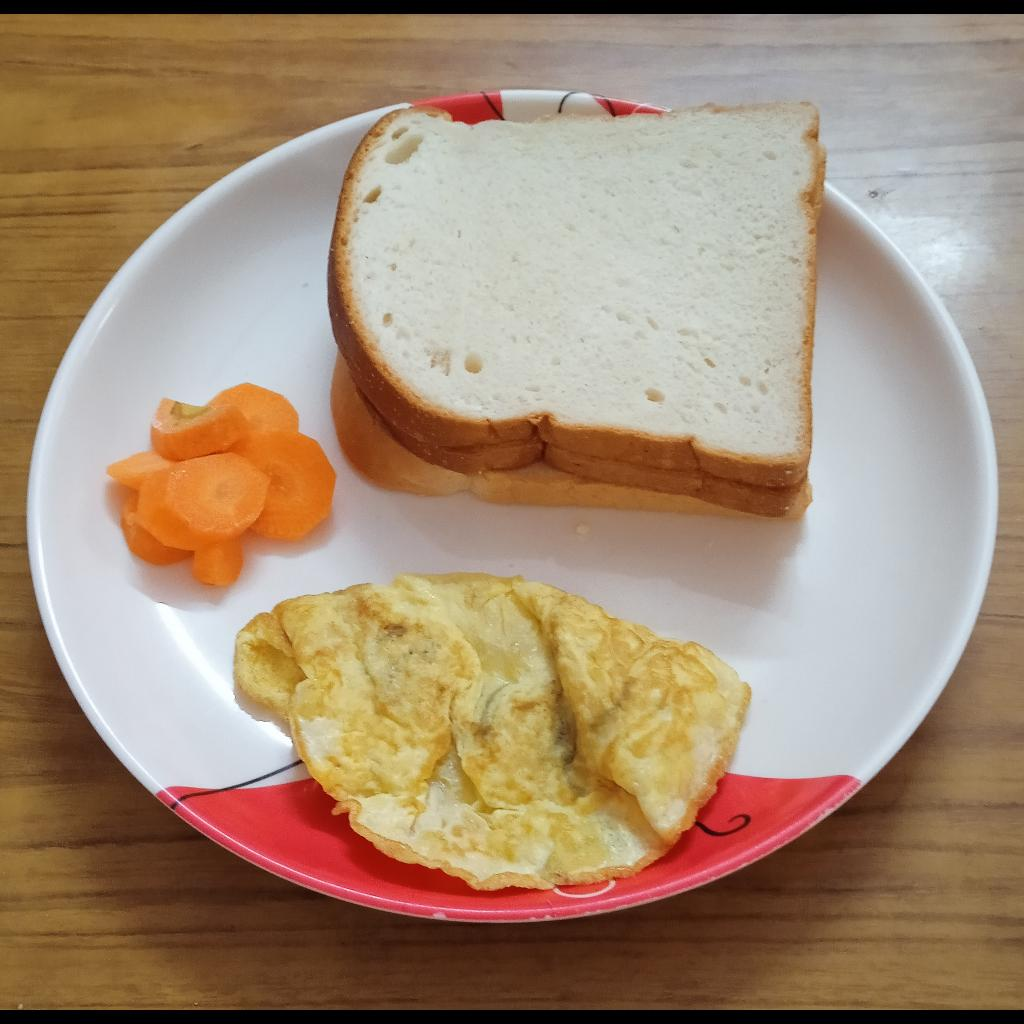bread: (326, 101, 828, 526)
carrot: (106, 382, 338, 588)
egg-poached: (232, 573, 752, 899)
